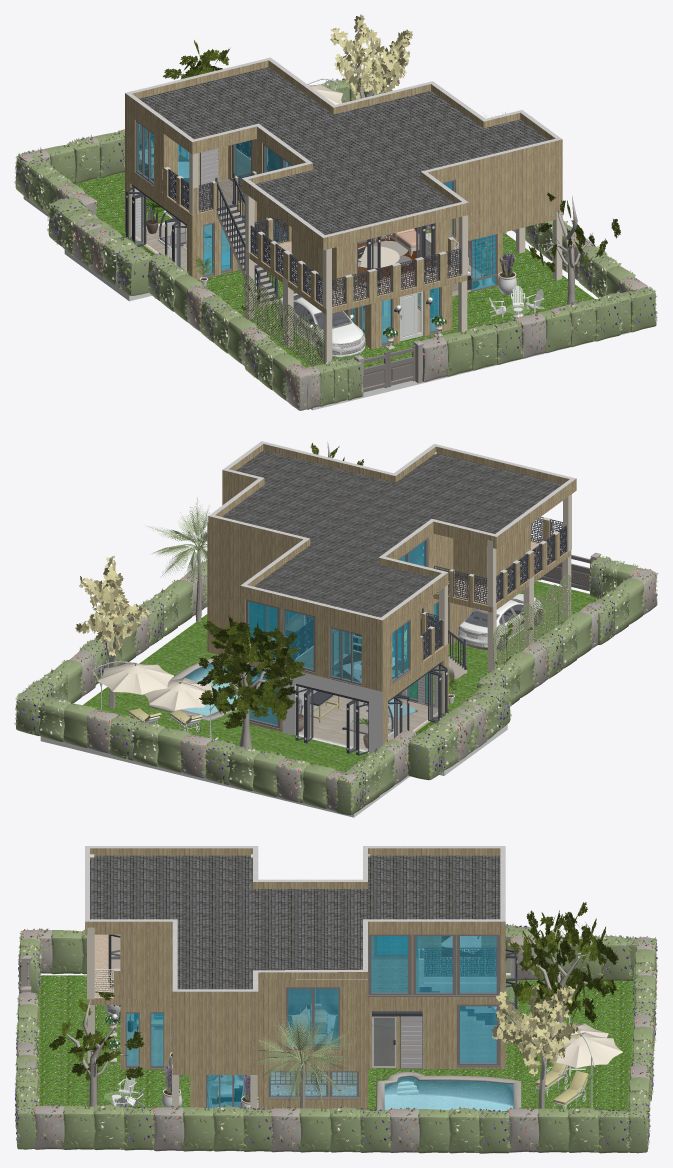
File: home_sweet_home_web.glb
The picture shows the model from 3 angles, top to bottom: view 1: azimuth 30°, elevation 25°; view 2: azimuth 150°, elevation 25°; view 3: azimuth 270°, elevation 25°; orthographic projection. The views are drawn at different scales.
Visible parts, largest first — view 1: Object_22, Object_65, Object_106, Object_2, Object_53, Object_57, Object_90, Object_16, Object_43, Object_52, Object_88, Object_59 (+4 smaller); view 2: Object_22, Object_65, Object_106, Object_2, Object_53, Object_52, Object_57, Object_90, Object_16, Object_88, Object_43, Object_59 (+4 smaller); view 3: Object_22, Object_65, Object_106, Object_53, Object_90, Object_2, Object_52, Object_57, Object_16, Object_102, Object_88, Object_59 (+7 smaller).
Part boxes in pixels (bbox=[...]): Object_22: bbox=[15, 14, 656, 410]; Object_65: bbox=[125, 60, 562, 349]; Object_106: bbox=[139, 67, 548, 234]; Object_2: bbox=[23, 112, 631, 410]; Object_53: bbox=[74, 172, 594, 368]; Object_57: bbox=[14, 74, 657, 408]; Object_90: bbox=[137, 123, 495, 342]; Object_16: bbox=[125, 57, 562, 277]; Object_43: bbox=[129, 189, 529, 332]; Object_52: bbox=[163, 40, 620, 272]; Object_88: bbox=[135, 222, 494, 342]; Object_59: bbox=[17, 78, 656, 391]; Object_22: bbox=[16, 441, 657, 815]; Object_65: bbox=[207, 444, 576, 744]; Object_106: bbox=[222, 450, 562, 617]; Object_2: bbox=[40, 497, 601, 817]; Object_53: bbox=[83, 581, 598, 772]; Object_52: bbox=[197, 443, 364, 728]; Object_57: bbox=[14, 556, 658, 810]; Object_90: bbox=[182, 541, 475, 725]; Object_16: bbox=[207, 441, 576, 637]; Object_88: bbox=[298, 695, 438, 750]; Object_43: bbox=[297, 611, 475, 753]; Object_59: bbox=[15, 560, 614, 806]; Object_22: bbox=[15, 854, 656, 1153]; Object_65: bbox=[85, 848, 505, 1109]; Object_106: bbox=[90, 855, 500, 989]; Object_53: bbox=[38, 975, 633, 1111]; Object_90: bbox=[126, 936, 513, 1110]; Object_2: bbox=[20, 934, 587, 1109]; Object_52: bbox=[49, 902, 618, 1081]; Object_57: bbox=[14, 924, 657, 1152]; Object_16: bbox=[85, 846, 505, 991]; Object_102: bbox=[371, 936, 496, 992]; Object_88: bbox=[126, 1017, 372, 1107]; Object_59: bbox=[15, 924, 657, 1146].
Bounding box in the file's own units: 18.42 × 7.21 × 24.5.
Materials: 75 (75 with a texture image).
